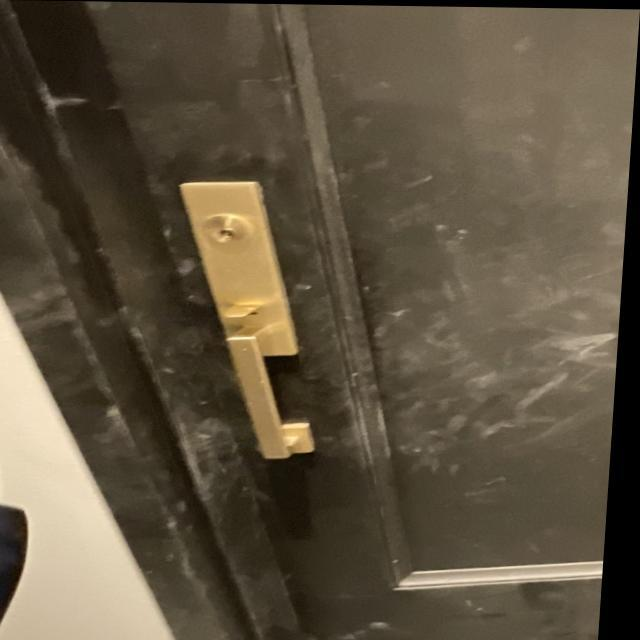door_handle: (222, 318, 327, 465)
